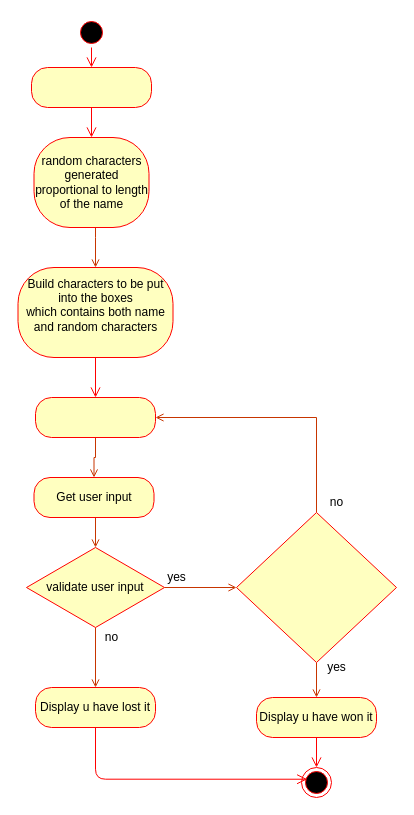
Image size: 414x815. Some labels were removed from this diagram. Here are the shapes that lost their labels. From the top down, the centre of each, then its label:
the point at 91,87: User enters the name
the point at 95,417: Display the boxes with characters
the point at 316,587: Finished all characters in name
